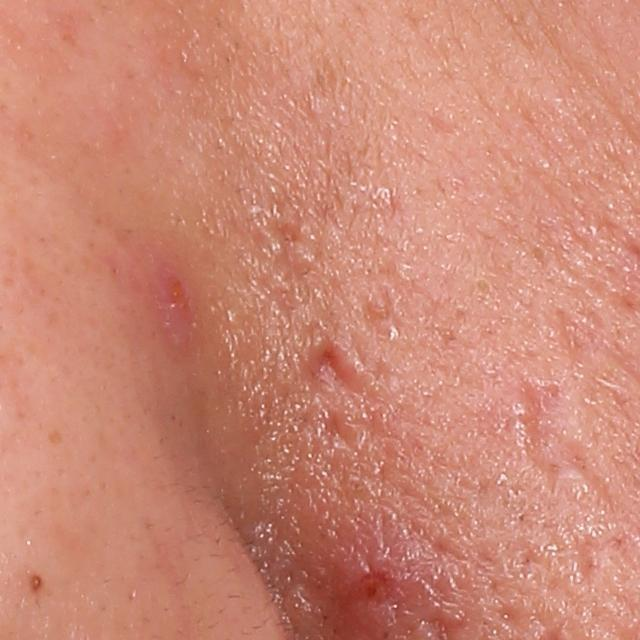atrophic_scar: (504, 384, 626, 524), (303, 338, 360, 401), (360, 290, 412, 341), (323, 404, 368, 458)
